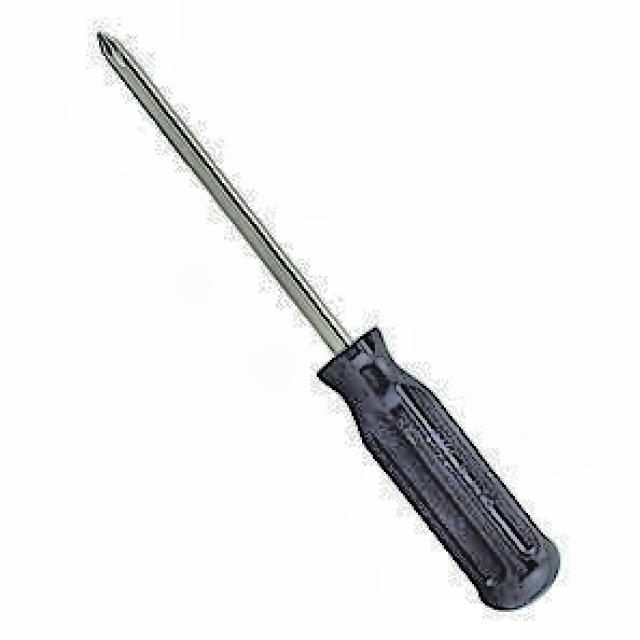screwdriver: (96, 31, 562, 612)
